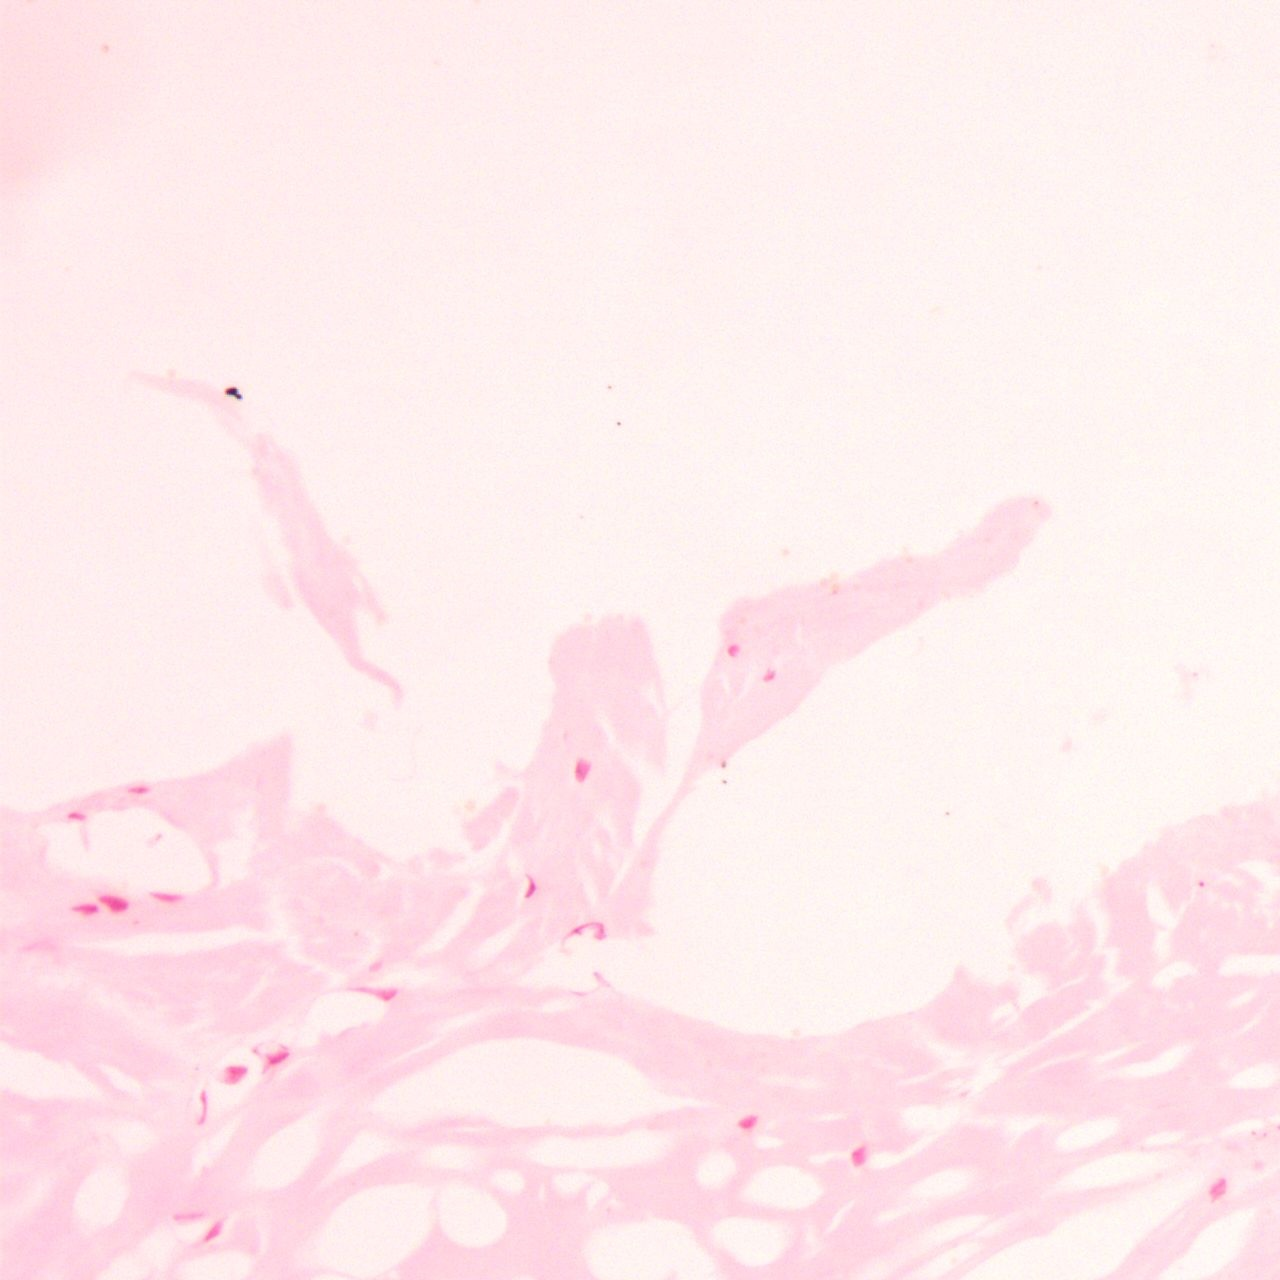dust: (223, 385, 243, 401), (720, 761, 728, 768), (722, 779, 727, 784), (945, 811, 949, 815)
nucleus-AC: (95, 889, 129, 916), (571, 758, 592, 785), (146, 891, 185, 901), (70, 903, 98, 915)
